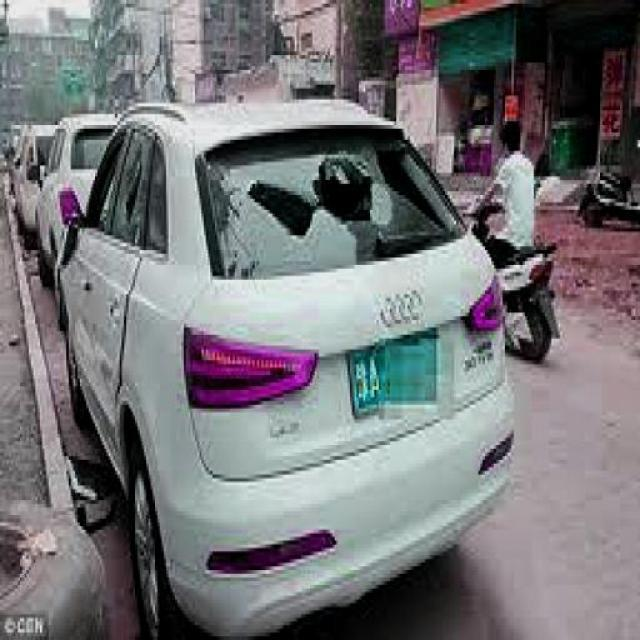car damage: (198, 123, 473, 288)
